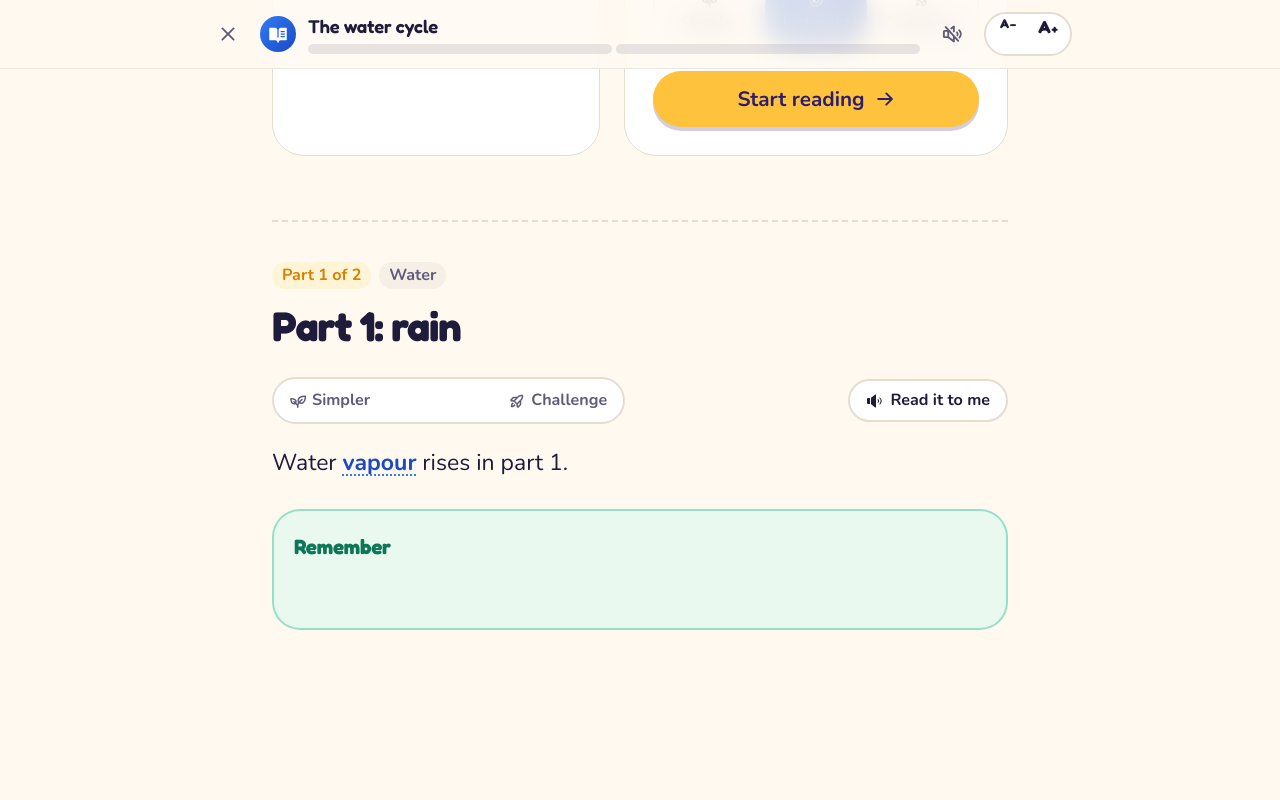
Test: GuidePlayer › teaches at the level chosen, and remembers the choice
(page scrolled)
Expected: the text "rises in part 1." is shown, x1=416 y1=447 x2=568 y2=478
What coordinates should you click on to do the following:
click the radio button labelled "Simpler"
I would click on:
 (330, 400)
Its box is x1=278 y1=383 x2=382 y2=418.
(page scrolled)
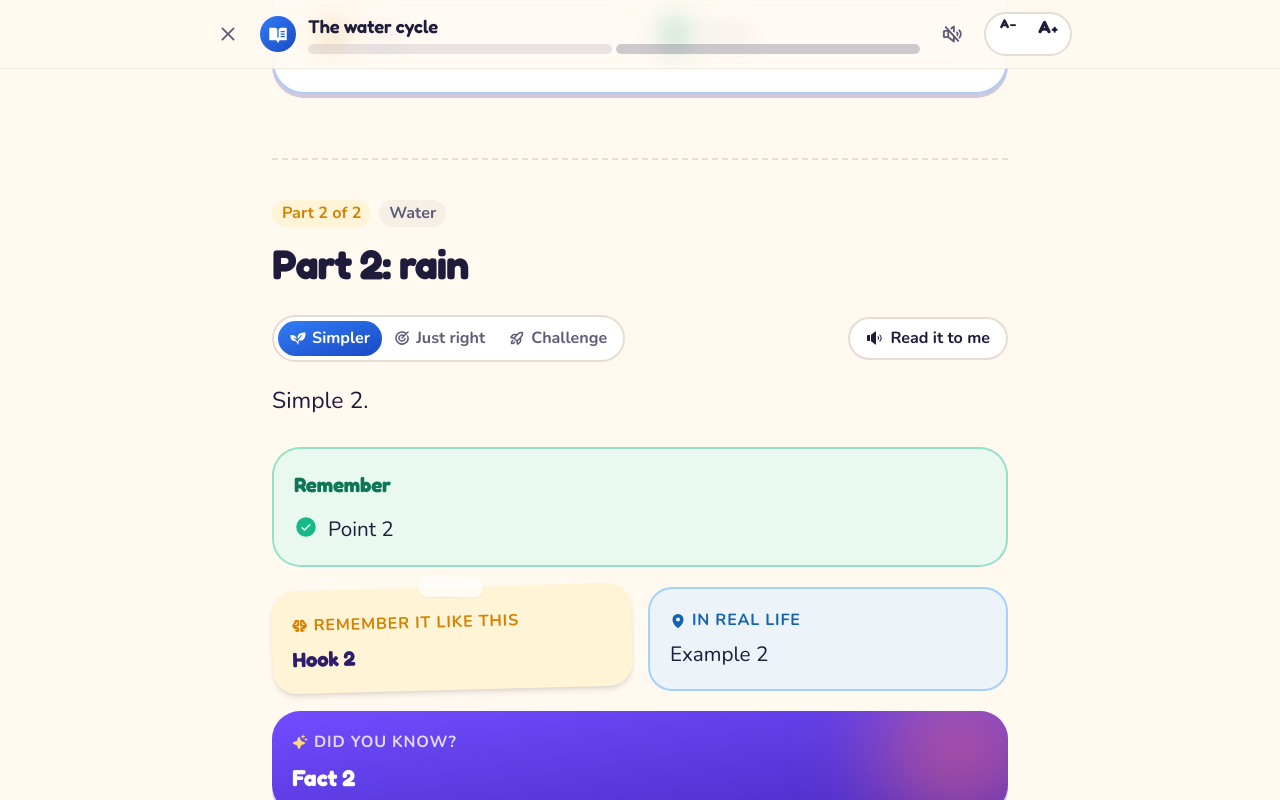
Expected: the text "Simple 2." is shown, x1=272 y1=384 x2=368 y2=416
